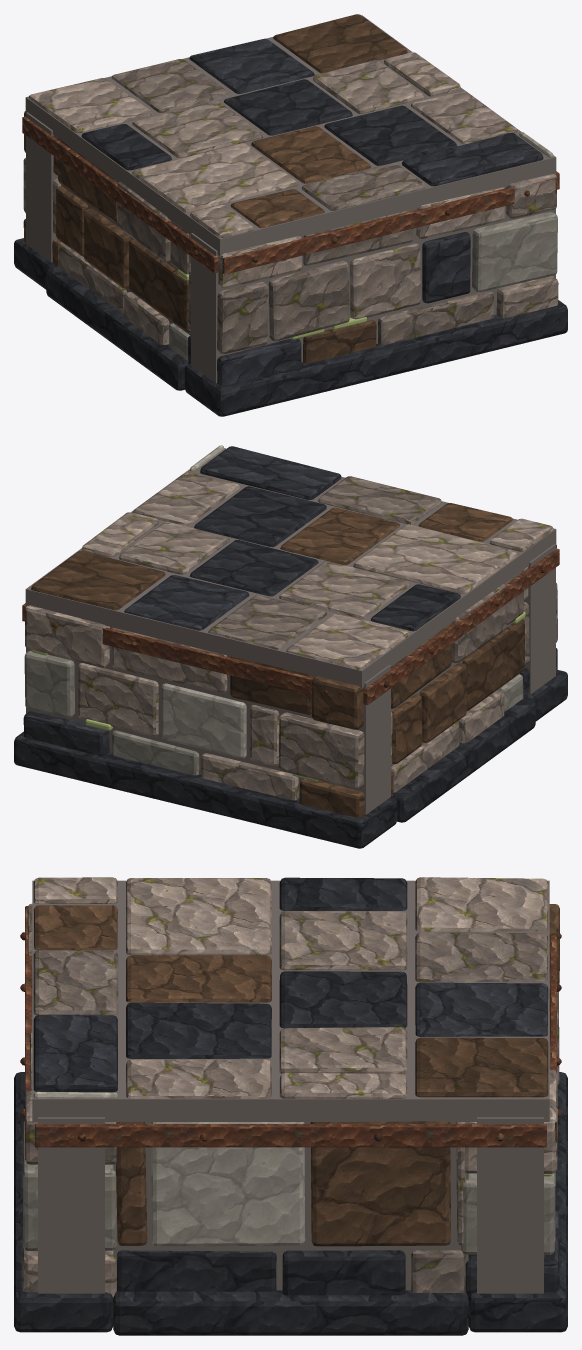
Rendered from foundation__cut_stone.glb.
The picture shows the model from 3 angles, top to bottom: view 1: azimuth 30°, elevation 25°; view 2: azimuth 150°, elevation 25°; view 3: azimuth 270°, elevation 25°; orthographic projection. The views are drawn at different scales.
Parts seen in each view (by area): view 1: model; view 2: model; view 3: model.
Part boxes in pixels (x1,y1,x2,y2): model: [14, 14, 567, 416]; model: [14, 445, 567, 848]; model: [14, 877, 567, 1335].
Size of the model in its own units: 2.12 by 1.02 by 2.12.
Materials: 27 (11 with a texture image).
